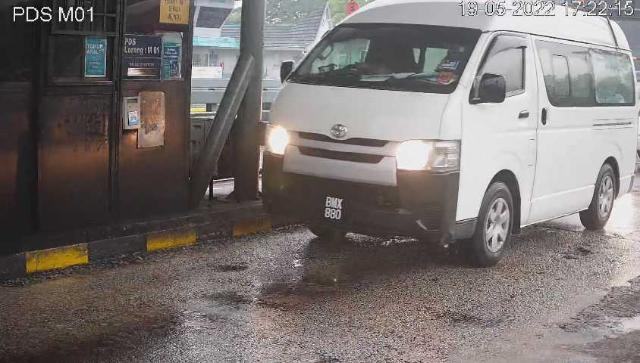License_Plate: (314, 191, 352, 230)
van: (262, 1, 640, 267)
